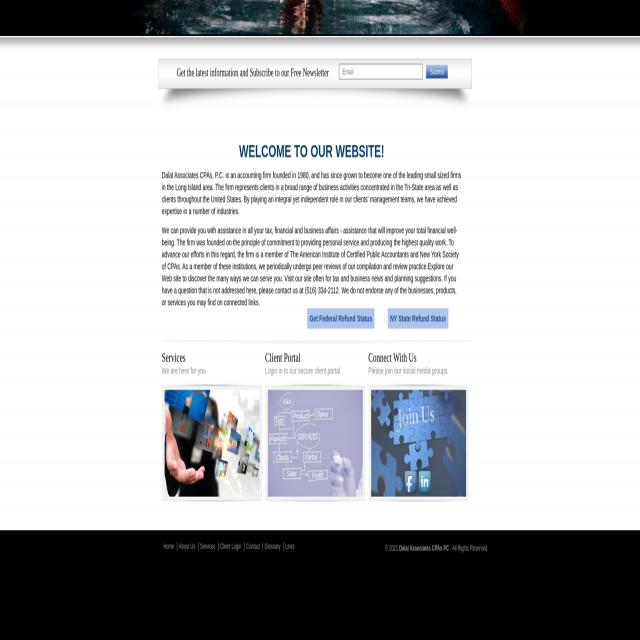button: (368, 384, 469, 502), (162, 384, 262, 502), (265, 384, 365, 502), (307, 308, 375, 329), (388, 308, 448, 329), (418, 470, 432, 494), (404, 470, 417, 494), (426, 65, 448, 78)
field: (339, 64, 423, 80)
